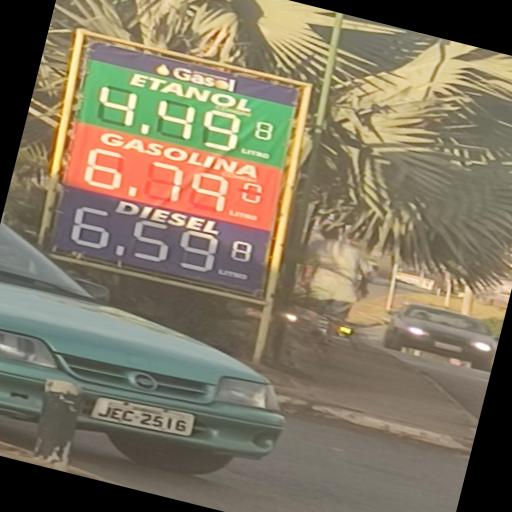ETANOL: (121, 67, 255, 118)
GASOLINA C: (95, 127, 272, 183)
S500: (110, 196, 232, 239)
placa: (56, 43, 296, 297)
preco: (67, 204, 225, 277), (91, 82, 244, 156), (79, 144, 233, 216)
